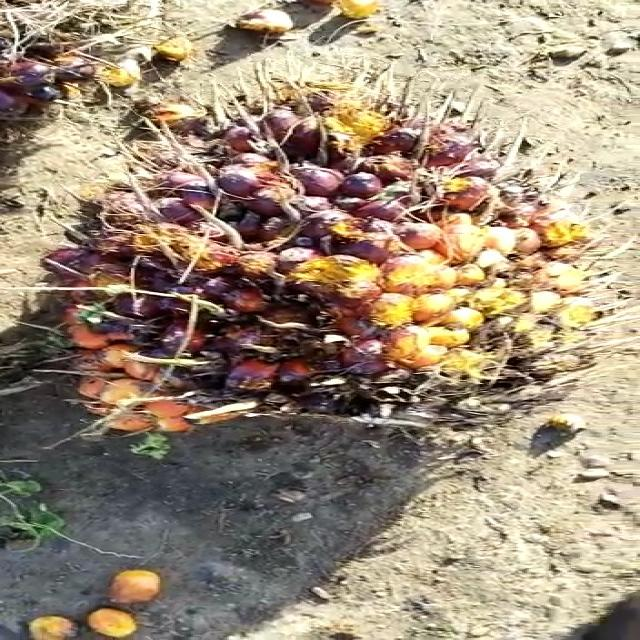palm oil: (34, 71, 607, 451)
